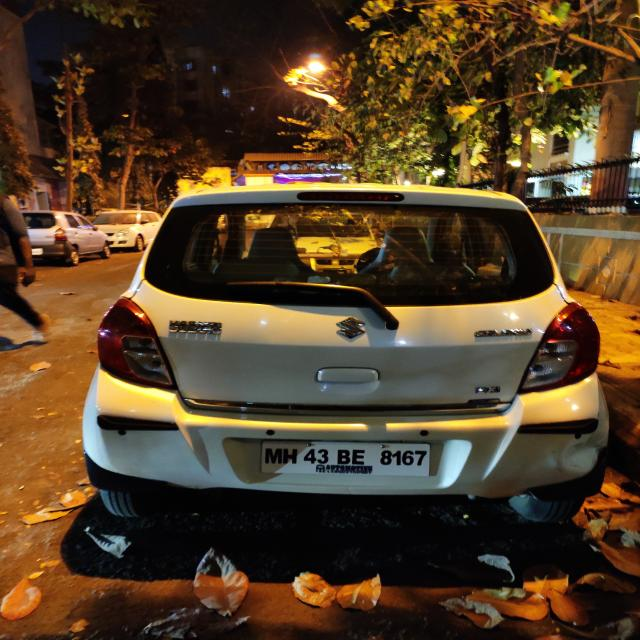Number-Plate: (262, 439, 437, 481)
